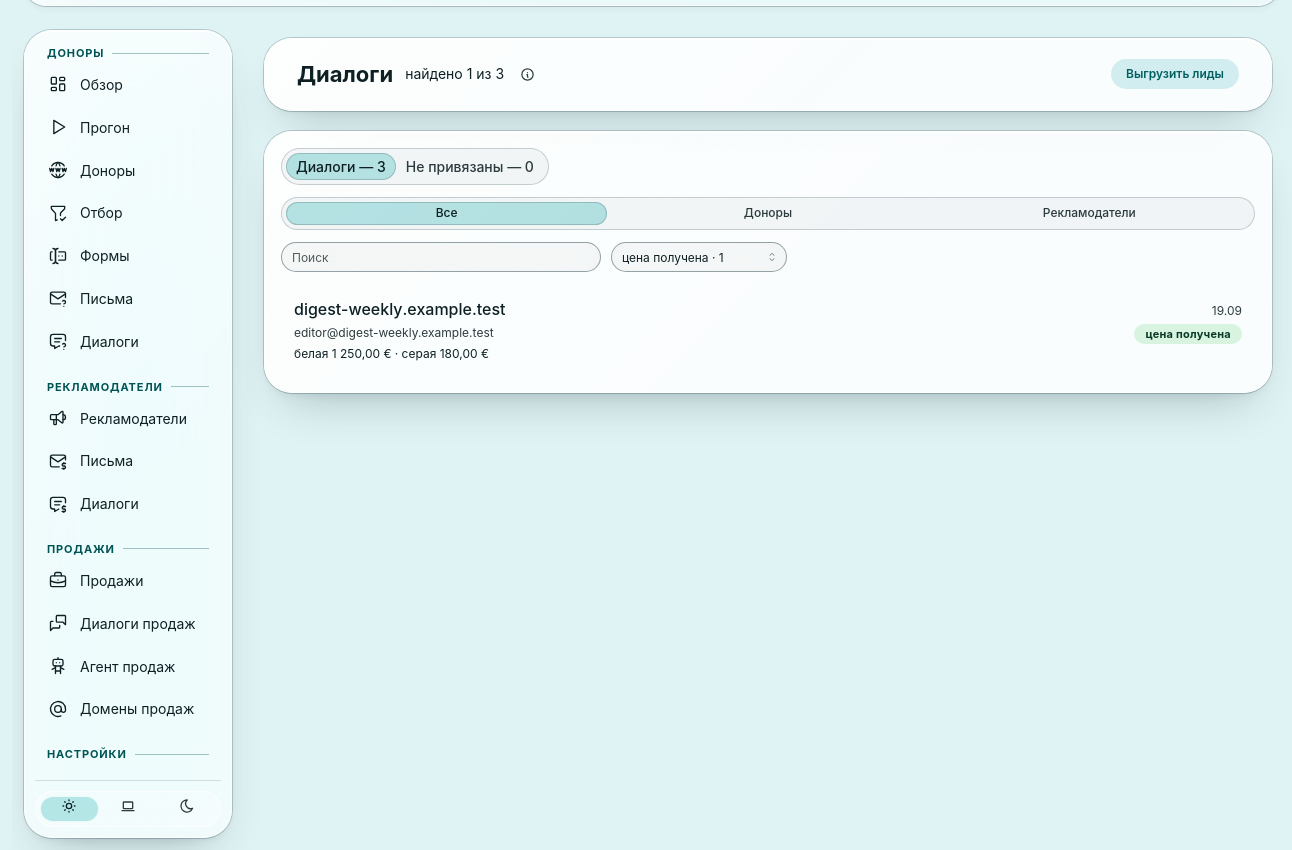
Test: диалоги › с «Не привязаны» обратно на «Диалоги» — с тем же фильтром, а не с начала
This screenshot has width=1292, height=850.
Check: the text "digest-weekly.example.test" is shown, box [294, 297, 506, 322]
Click the 1st radio button labelled "Не привязаны — 0" at (470, 167), box [396, 153, 544, 180]
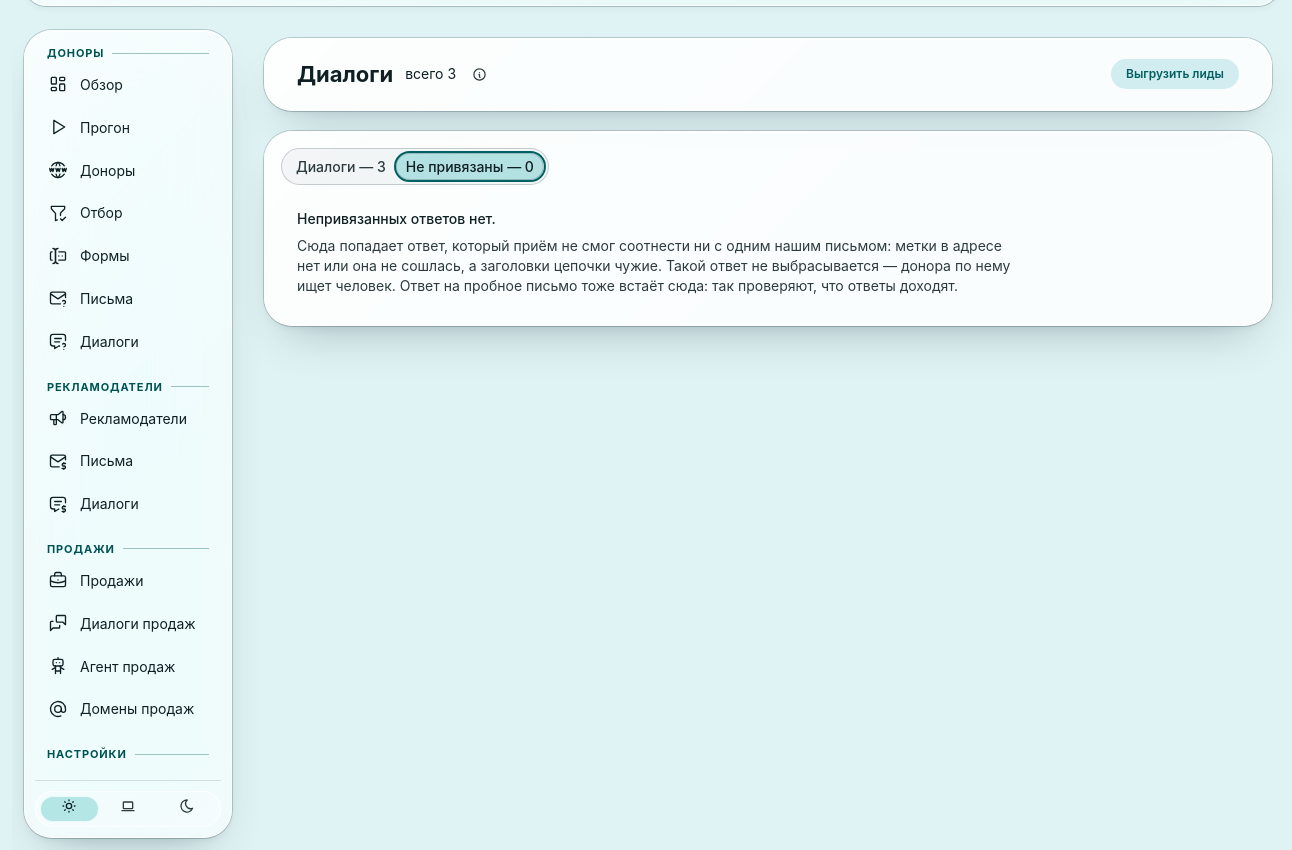
Click the 1st radio button labelled "Диалоги — 3" at (341, 166), box [296, 158, 386, 175]
(page scrolled)
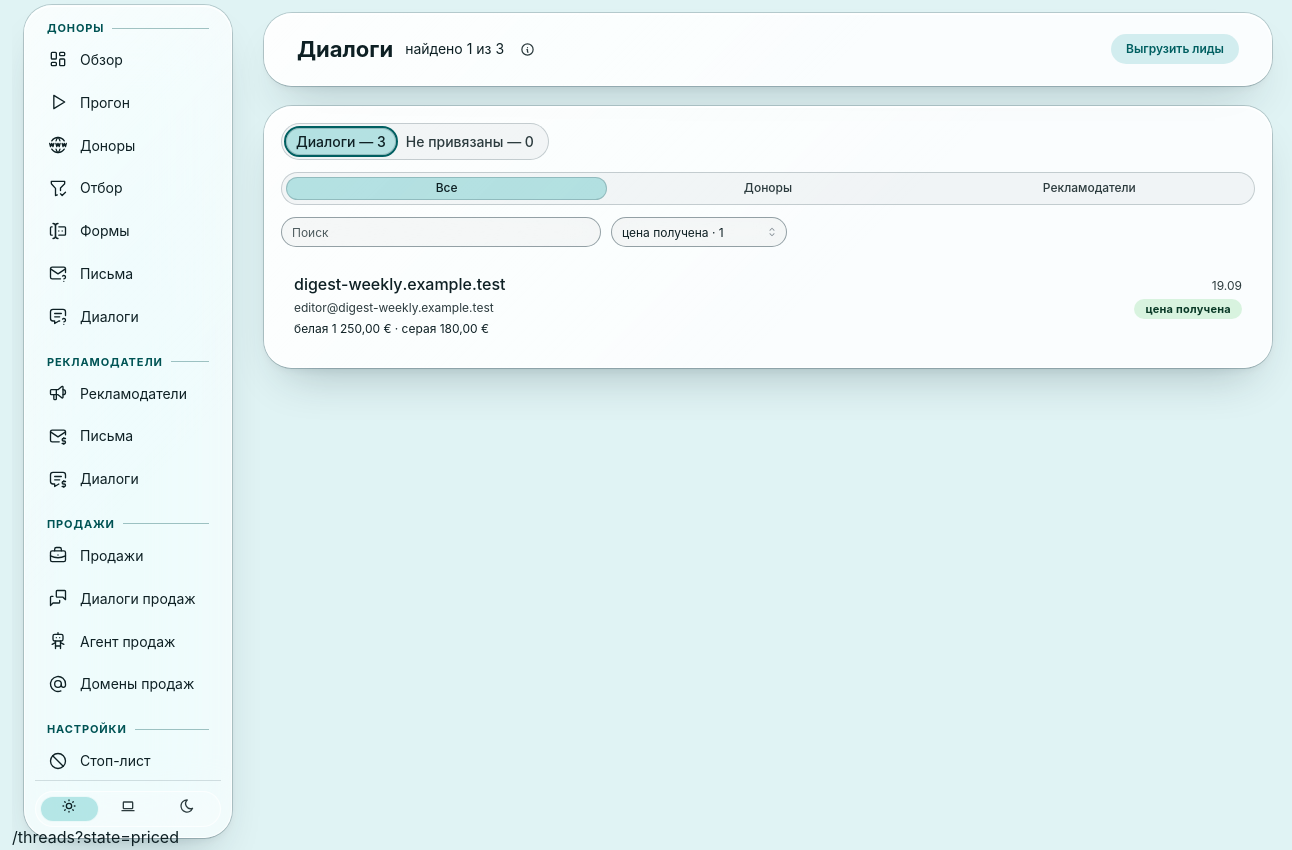
Check: the text "digest-weekly.example.test" is shown, box [294, 272, 506, 297]
Check: the text with test id "where" reads "/threads?state=priced", box [12, 827, 179, 847]
